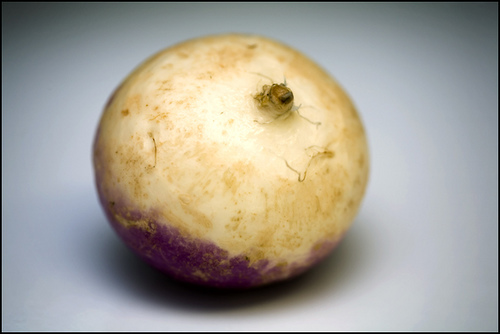turnip: (92, 35, 371, 291)
